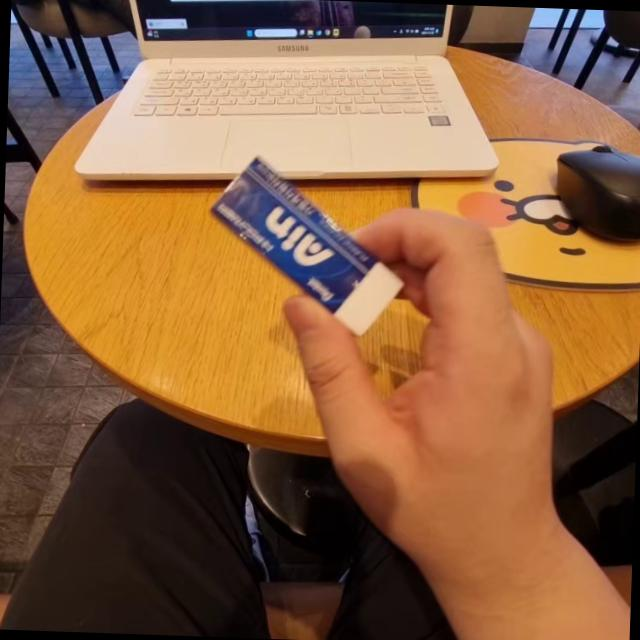eraser: (201, 149, 408, 336)
grab_eraser: (189, 154, 585, 606)
hand: (352, 196, 562, 554)
mouse: (544, 134, 640, 262)
